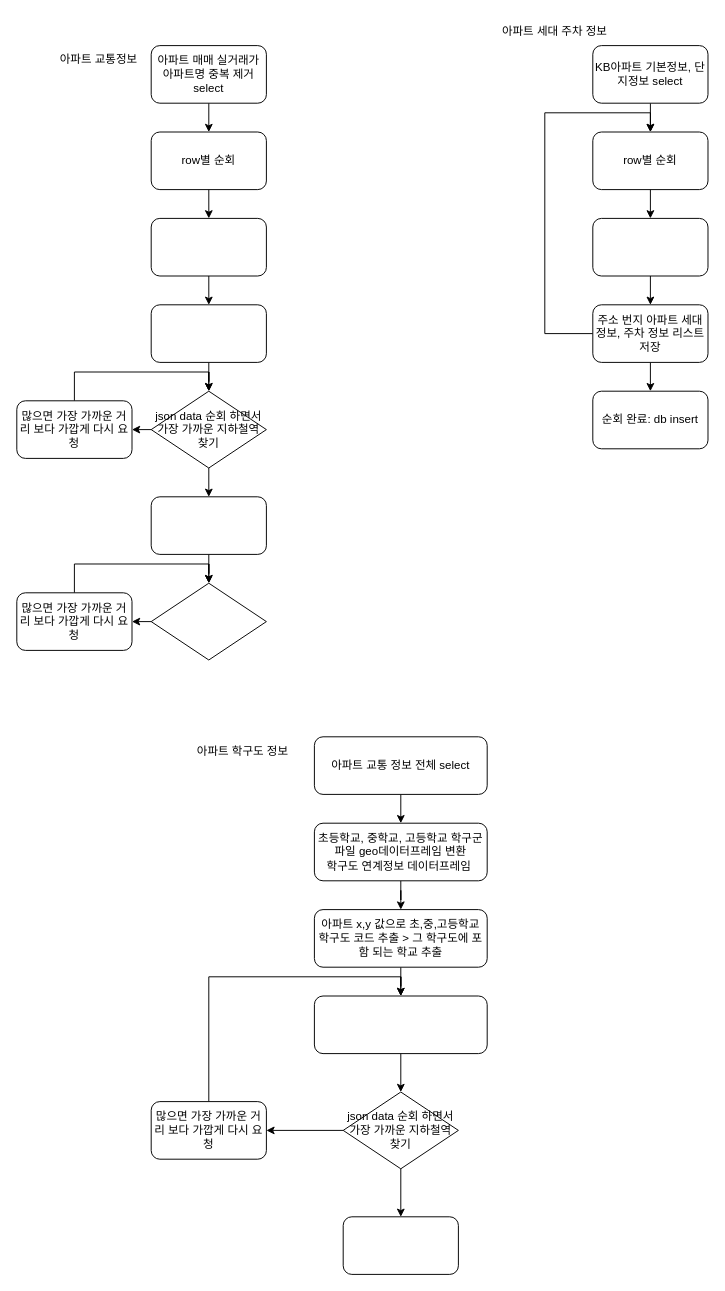
Image size: 725x1291. Some labels were removed from this diagram. The shapes that lost their labels are listed below. From the top down, each one's centre as x and y in pixels, then its label:
[208,246]: 아파트 주소로 카카오 api 요청
[650,246]: 주소 번지 변환
[208,333]: 요청 받은 json 에서 x, y 값 으로 주변 지하철 다시 요청
[208,525]: 요청 받은 json 에서 x, y 값 으로 주변 시군청 다시 요청
[208,621]: json data 순회 하면서 가장 가까운 시군청 찾기
[400,1024]: 카카오 api로 아파트에서 초,중,고 검색
[400,1245]: 완료시 db insert
